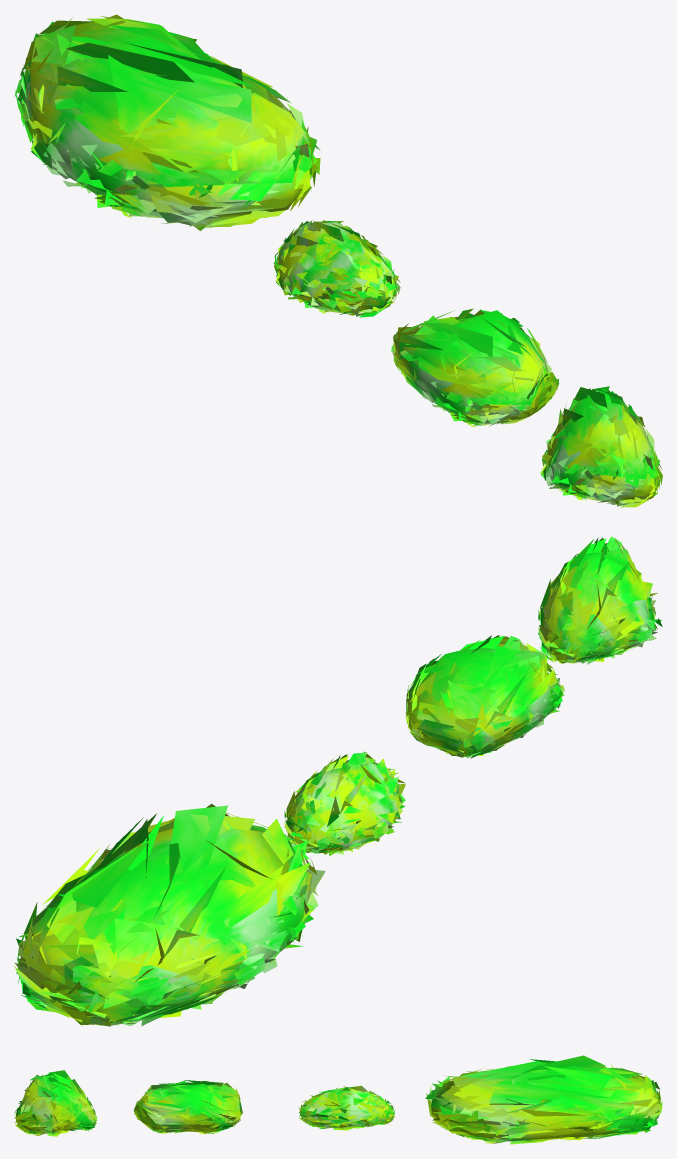
The model's file is Bush.fbx.
3 renders of one model, top to bottom at view 1: azimuth 30°, elevation 25°; view 2: azimuth 150°, elevation 25°; view 3: azimuth 270°, elevation 25°, orthographic. The views are drawn at different scales.
Parts seen in each view (by area): view 1: Cube.002, Cube.001, Cube.003, Cube; view 2: Cube.002, Cube.001, Cube.003, Cube; view 3: Cube.002, Cube.001, Cube.003, Cube.
Boxes of the visible parts, box(x1,y1,x2,y2) form: Cube.002: box(14, 14, 320, 231); Cube.001: box(391, 308, 559, 427); Cube.003: box(540, 386, 662, 507); Cube: box(273, 220, 400, 317); Cube.002: box(14, 803, 325, 1026); Cube.001: box(405, 635, 564, 758); Cube.003: box(538, 536, 662, 664); Cube: box(284, 751, 405, 855); Cube.002: box(425, 1055, 662, 1144); Cube.001: box(133, 1080, 242, 1134); Cube.003: box(14, 1070, 97, 1136); Cube: box(298, 1085, 395, 1130).
Size of the model in its own units: 792 by 422 by 3719.
